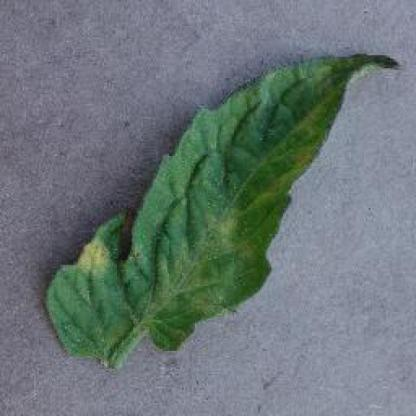Strawberry_Anthracnose_Fruit_Rot: (205, 206, 249, 254), (73, 238, 115, 282), (294, 101, 329, 140)
